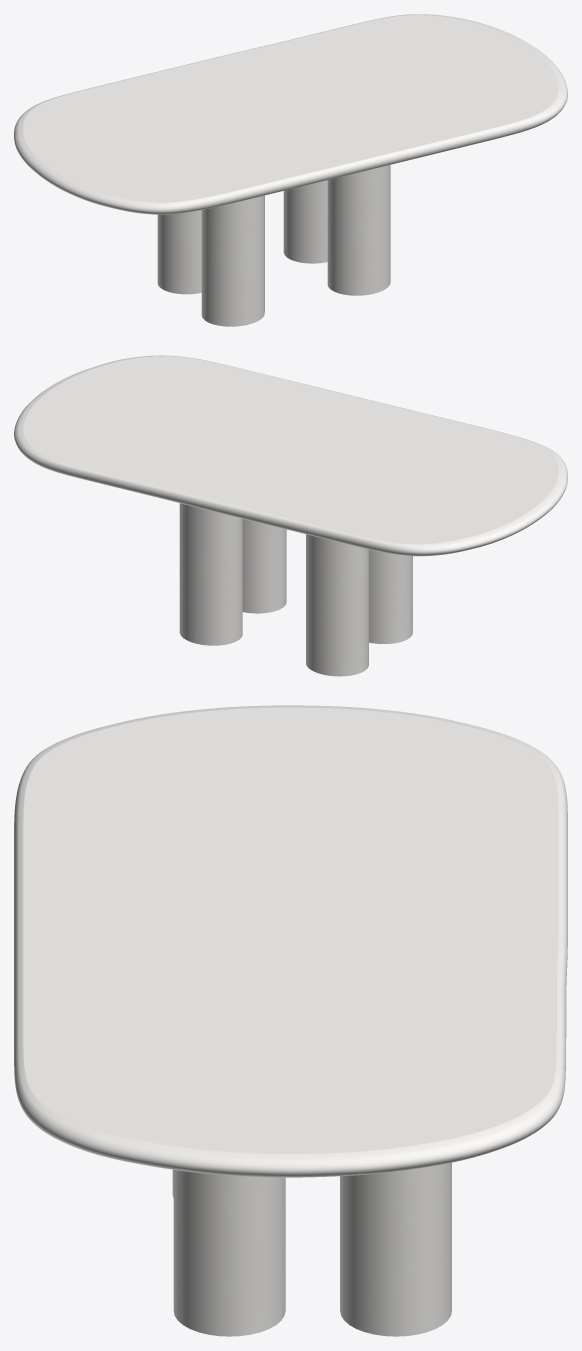
The model's file is purewhite_oval_round_grove.glb.
The picture shows the model from 3 angles, top to bottom: view 1: azimuth 30°, elevation 25°; view 2: azimuth 150°, elevation 25°; view 3: azimuth 270°, elevation 25°; orthographic projection. The views are drawn at different scales.
Parts seen in each view (by area): view 1: round_oval, grove; view 2: round_oval, grove; view 3: round_oval, grove.
Boxes of the visible parts, <box> form: round_oval: <box>14,14,567,214</box>; grove: <box>157,165,390,326</box>; round_oval: <box>14,355,567,556</box>; grove: <box>179,503,412,676</box>; round_oval: <box>14,705,567,1177</box>; grove: <box>172,1162,451,1336</box>.
Size of the model in its own units: 7.5 by 2.51 by 3.8.
Materials: 1 (1 with a texture image).
